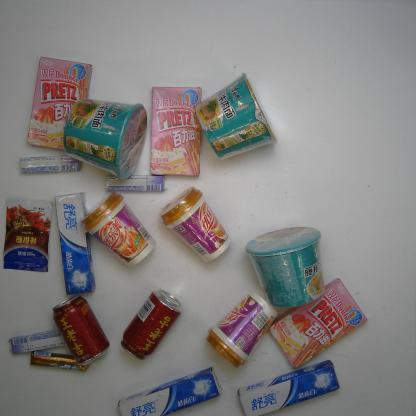Candy: (7, 329, 67, 355), (30, 350, 90, 373), (19, 154, 82, 175), (104, 174, 169, 193)
Dessert: (268, 277, 369, 369), (26, 56, 94, 152), (148, 85, 203, 178)
Drink: (120, 289, 183, 361), (51, 294, 111, 366)
Instant Drink: (79, 191, 157, 268), (204, 290, 278, 370), (159, 186, 233, 264)
Instant Noodles: (194, 72, 278, 161), (62, 96, 147, 181), (245, 226, 326, 309)
Personal Hygiene: (236, 358, 340, 416), (117, 366, 223, 416), (53, 191, 96, 296)
Seasoner: (2, 196, 54, 273)
